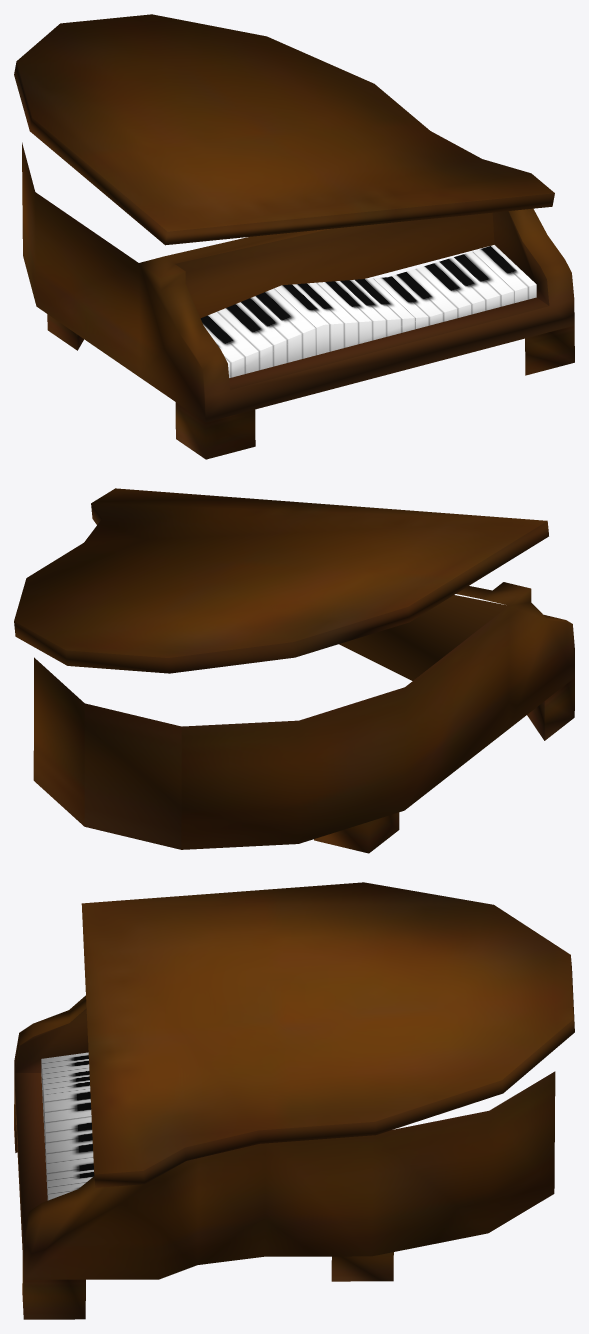
File: piano.glb
3 renders of one model, top to bottom at view 1: azimuth 30°, elevation 25°; view 2: azimuth 150°, elevation 25°; view 3: azimuth 270°, elevation 25°, orthographic. The views are drawn at different scales.
Visible parts, largest first — view 1: joint_scale_piano_drop; view 2: joint_scale_piano_drop; view 3: joint_scale_piano_drop.
Part boxes in pixels (x1,y1,x2,y2): joint_scale_piano_drop: (14,14,574,459); joint_scale_piano_drop: (14,488,574,853); joint_scale_piano_drop: (14,882,574,1319).
Bounding box in the file's own units: 1.79 × 0.9735 × 2.04.
2 materials, 2 textured.
